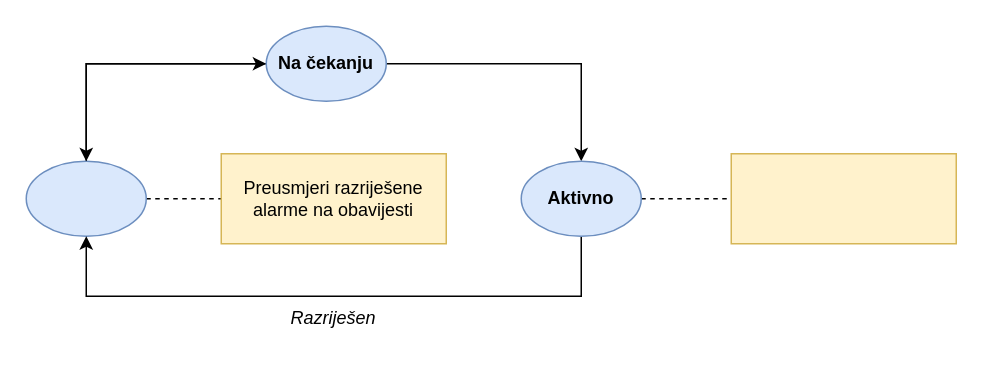
Image size: 983x368. Some labels were removed from this diagram. Here are the shapes that lost their labels. From the top down, the box of each, then its label:
(25, 160, 146, 236): Normalno
(730, 152, 956, 244): Preusmjeri nove alarme na obavijesti
